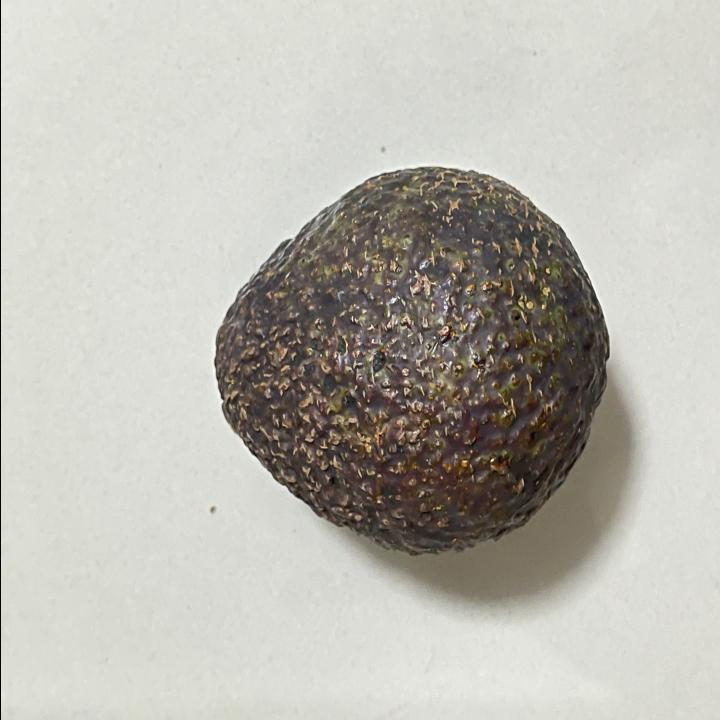Level2: (204, 156, 618, 566)
